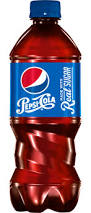pepsi: (17, 65, 52, 95)
plastic: (11, 2, 80, 212)
